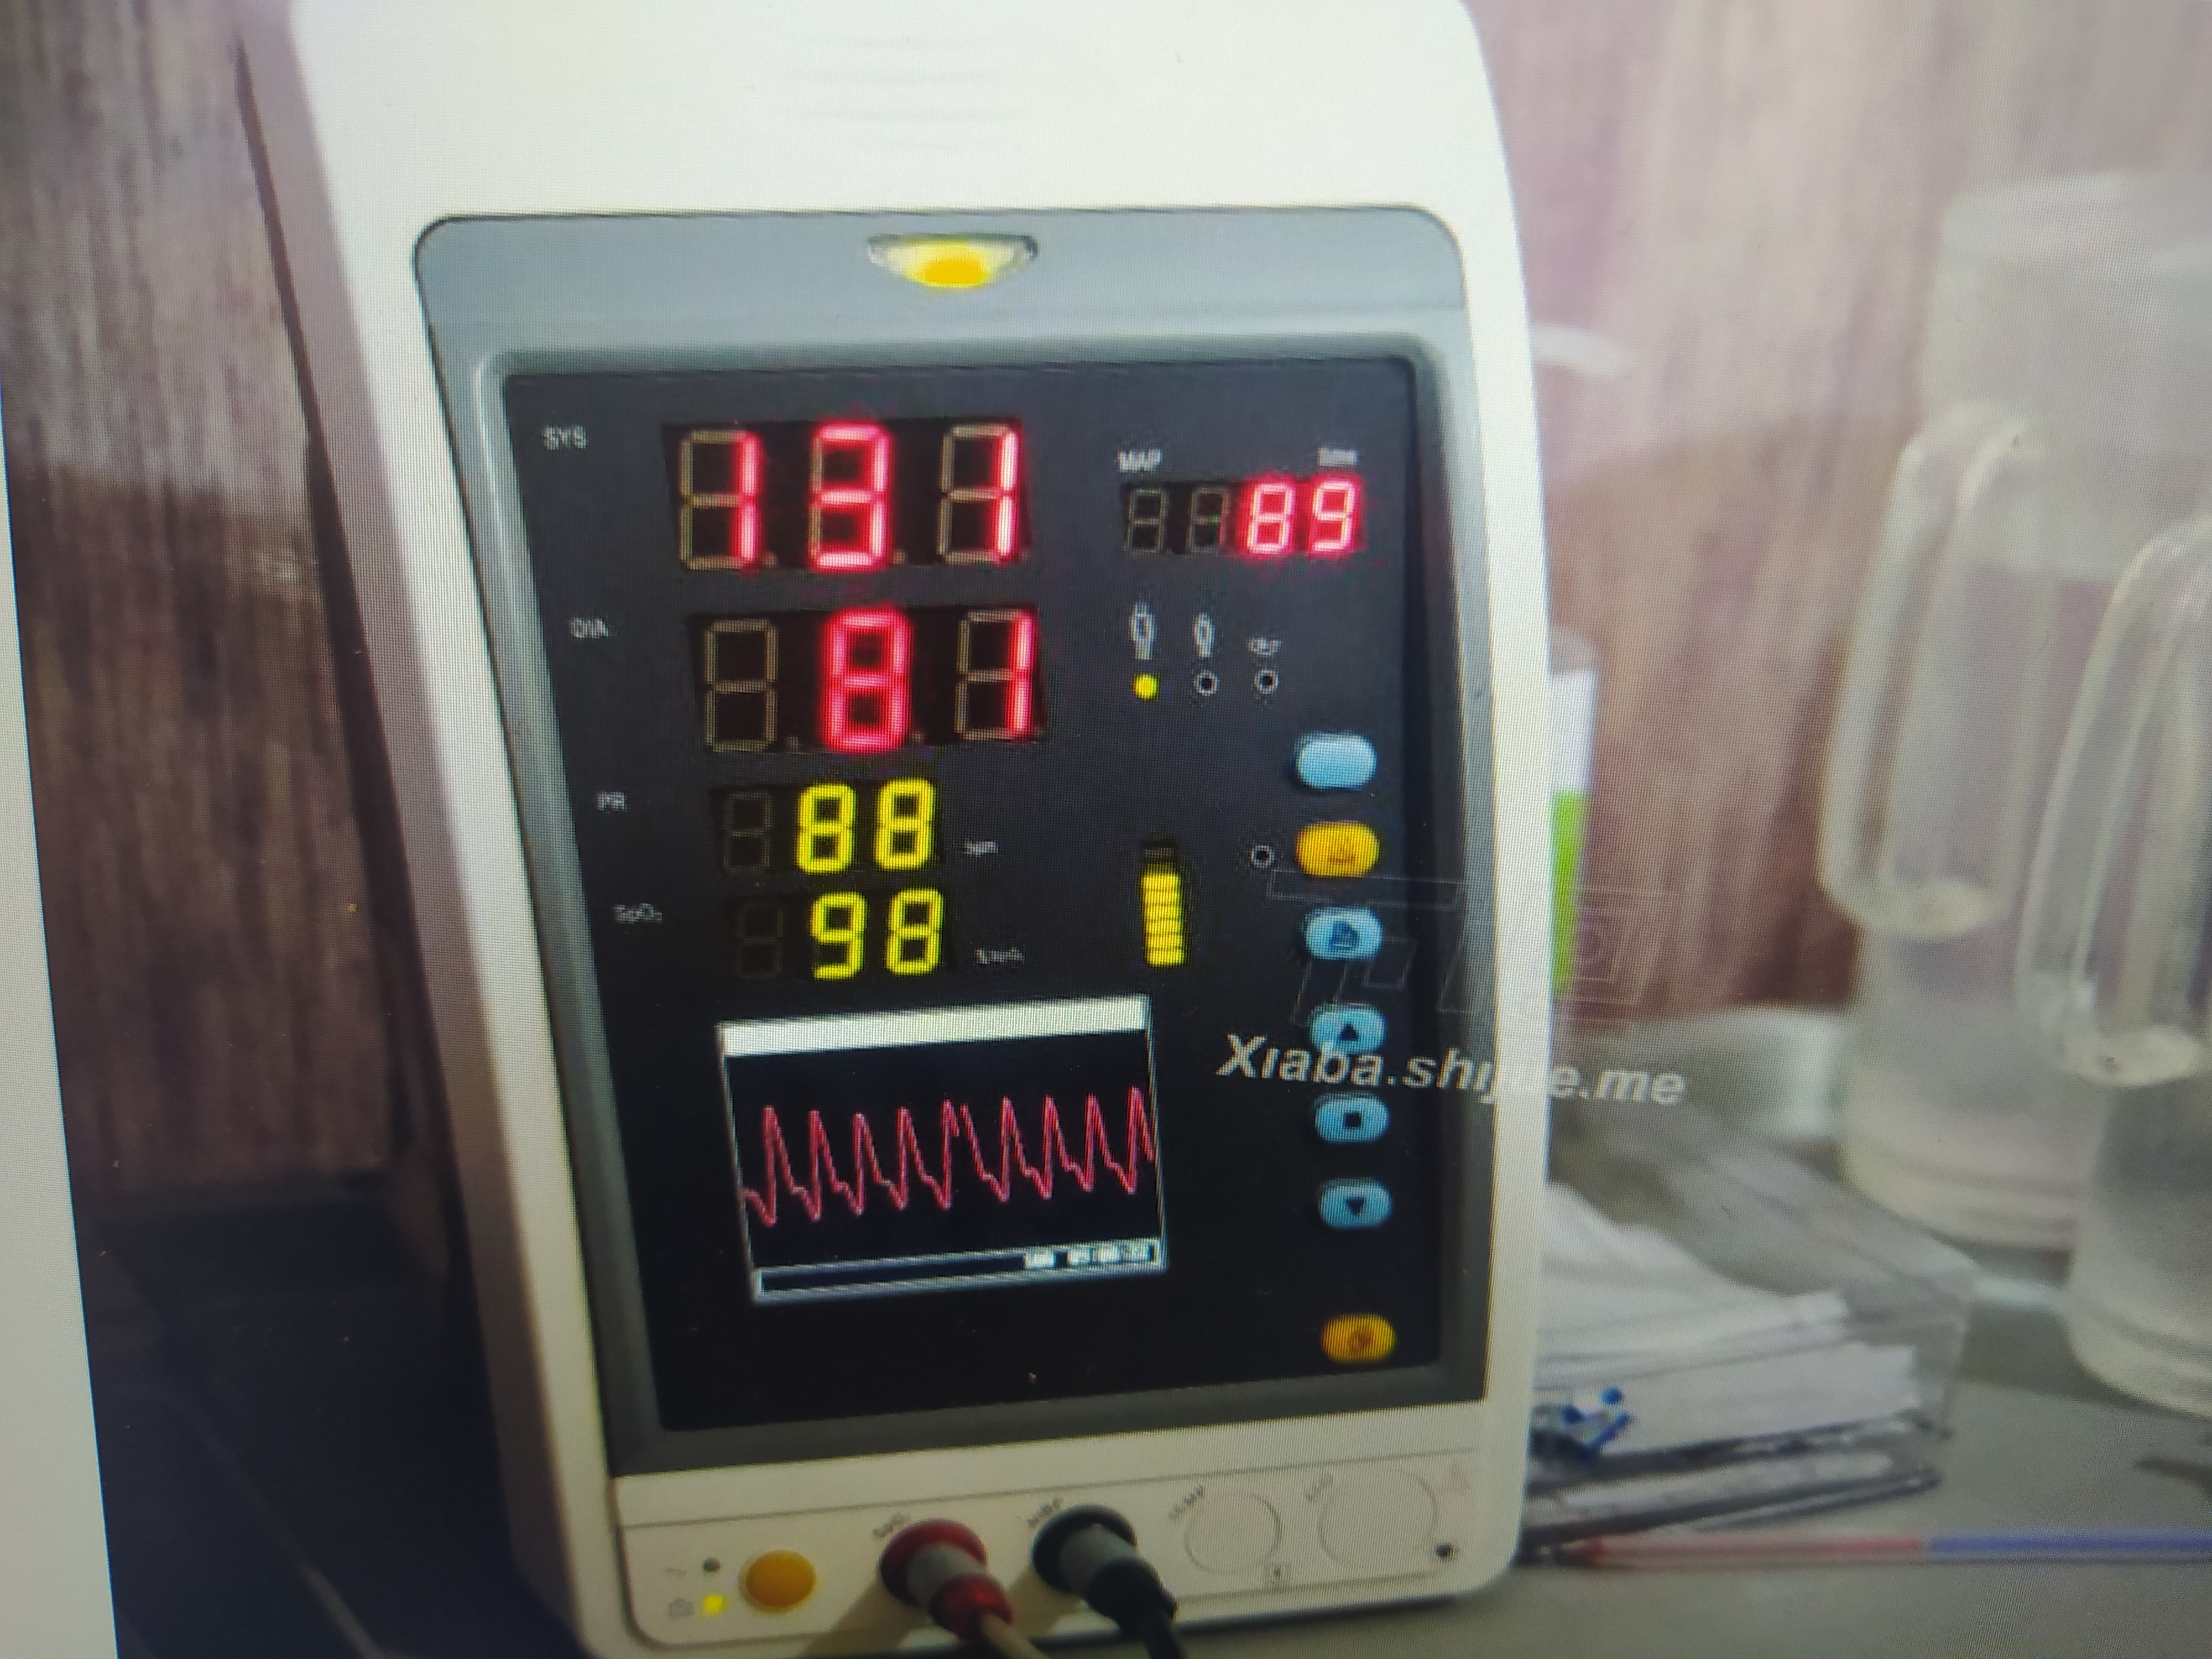.: (752, 441, 789, 570), (883, 430, 916, 568)
1: (723, 434, 766, 566), (979, 429, 1019, 559), (1005, 619, 1045, 742)
3: (803, 423, 900, 568)
8: (819, 612, 909, 748), (789, 777, 867, 880), (878, 885, 949, 979), (873, 775, 941, 870), (1251, 476, 1294, 558)
9: (810, 889, 866, 979), (1303, 479, 1353, 558)
